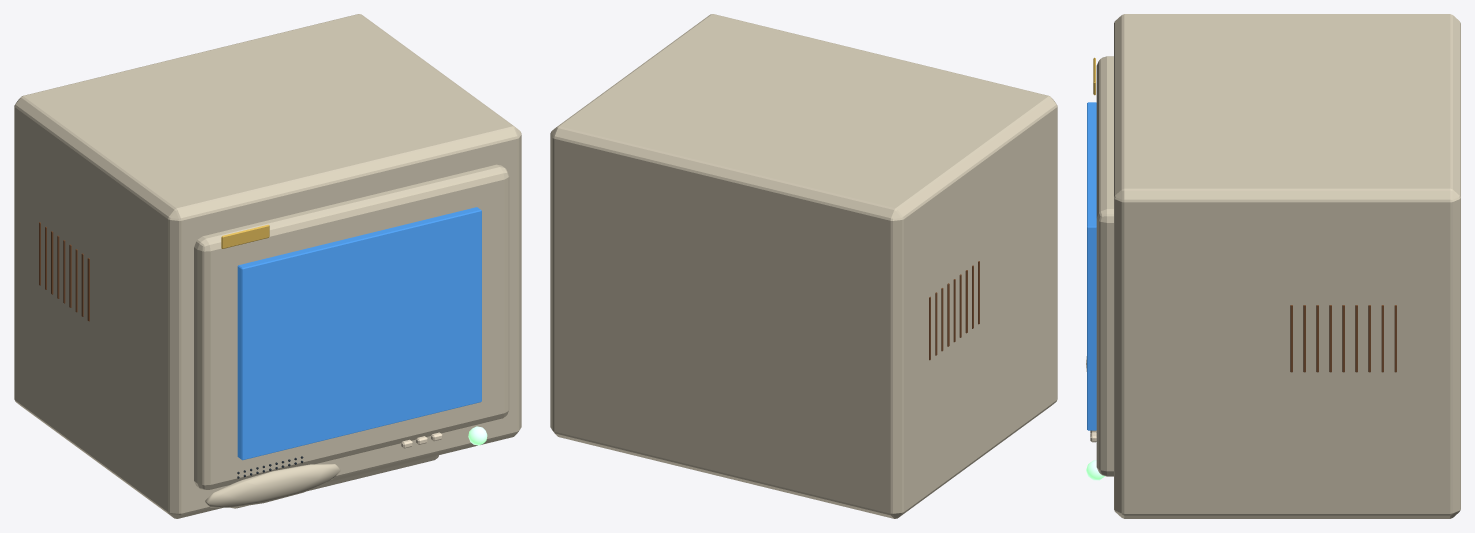
Rendered from computer.glb.
3 renders of one model, left to right at view 1: azimuth 30°, elevation 25°; view 2: azimuth 150°, elevation 25°; view 3: azimuth 270°, elevation 25°, orthographic. The views are drawn at different scales.
Parts seen in each view (by area): view 1: body, screen, bezel, floppy-slot, brass-makers-plate, stand; view 2: body; view 3: body, bezel, screen.
Boxes of the visible parts, x1,y1,x2,y2 form: body: (14, 14, 521, 518); screen: (237, 207, 481, 460); bezel: (194, 164, 509, 490); floppy-slot: (205, 464, 340, 507); brass-makers-plate: (221, 224, 269, 248); stand: (231, 455, 438, 508); body: (550, 14, 1057, 518); body: (1114, 14, 1460, 518); bezel: (1096, 56, 1113, 476); screen: (1087, 102, 1096, 430).
Bounding box in the file's own units: 0.503 × 0.44 × 0.432.
